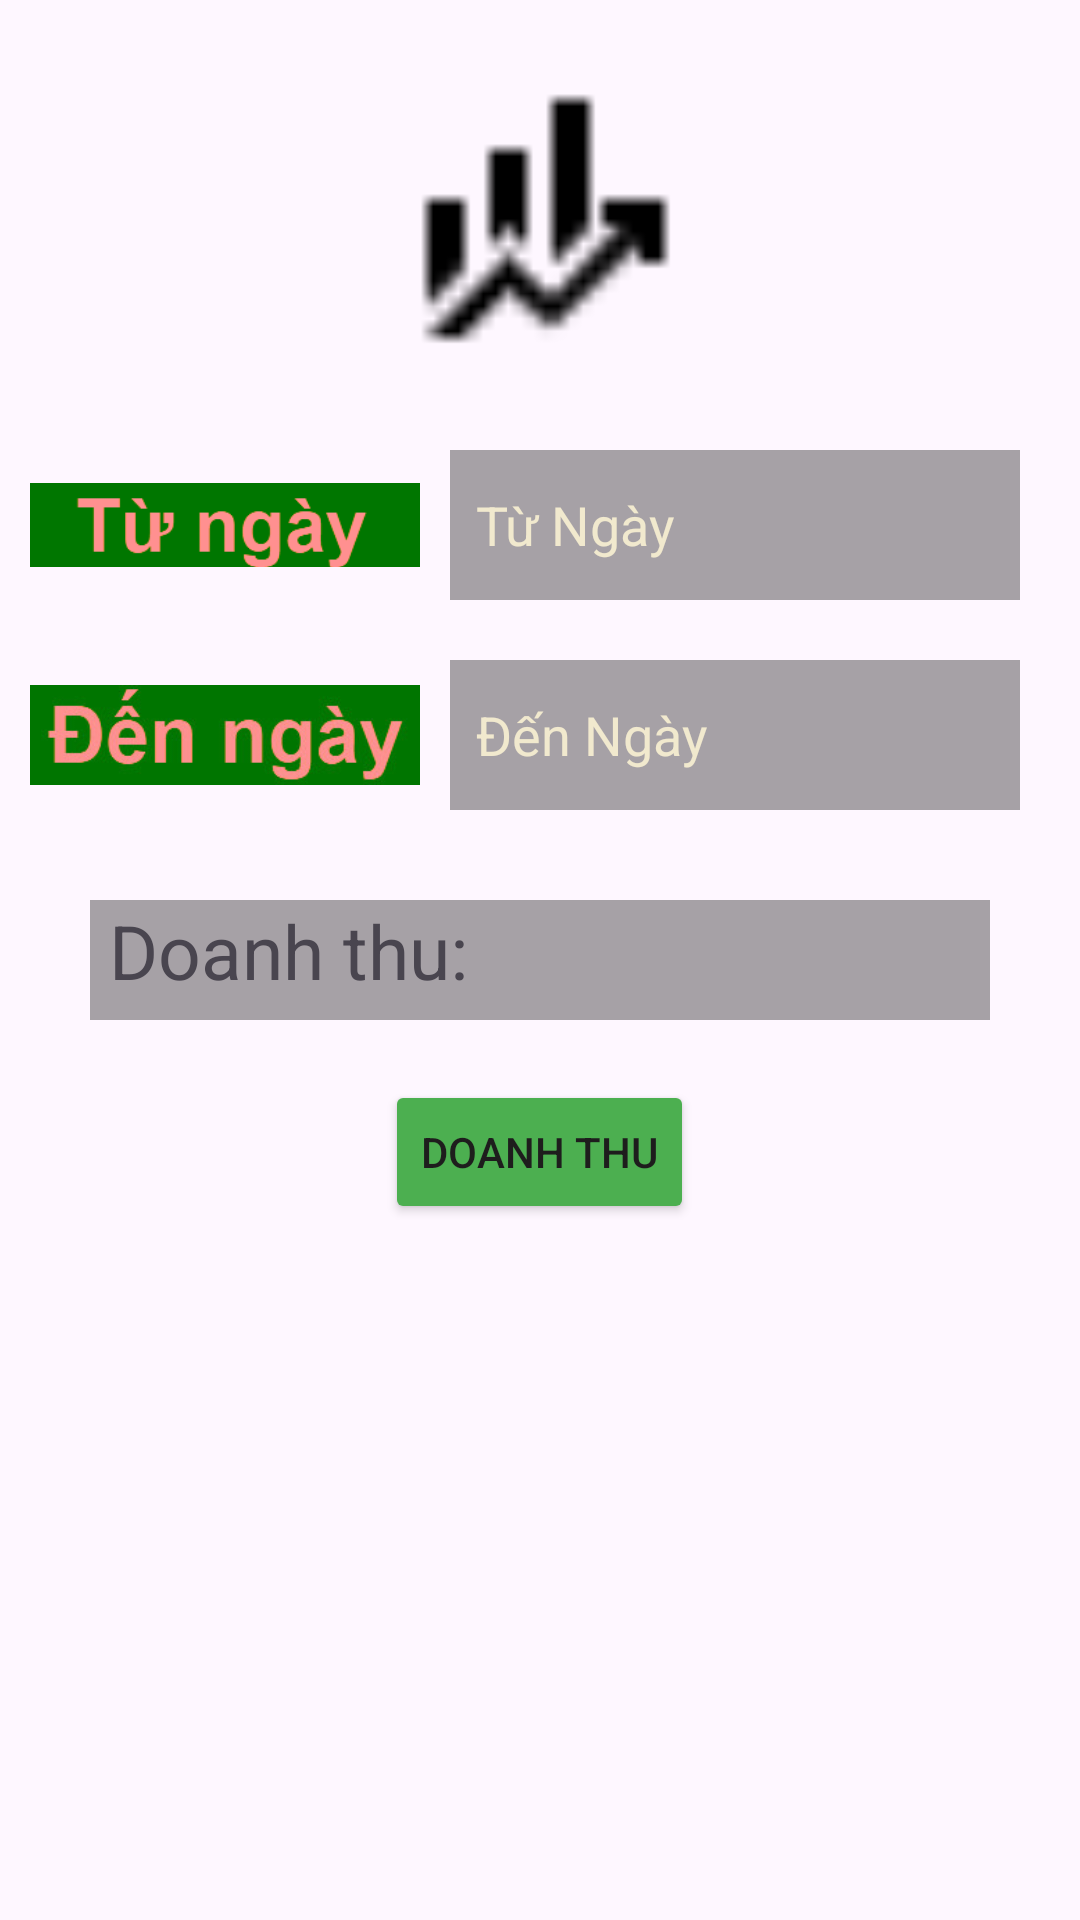

Named icons in this screenshot (1080*1920) and their centers, point (x, y):
bieudo: point (546, 219)
